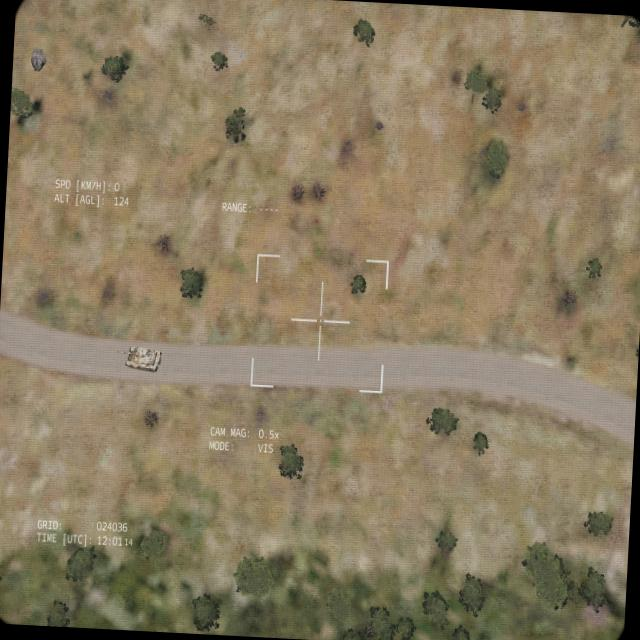tank: (114, 344, 162, 374)
